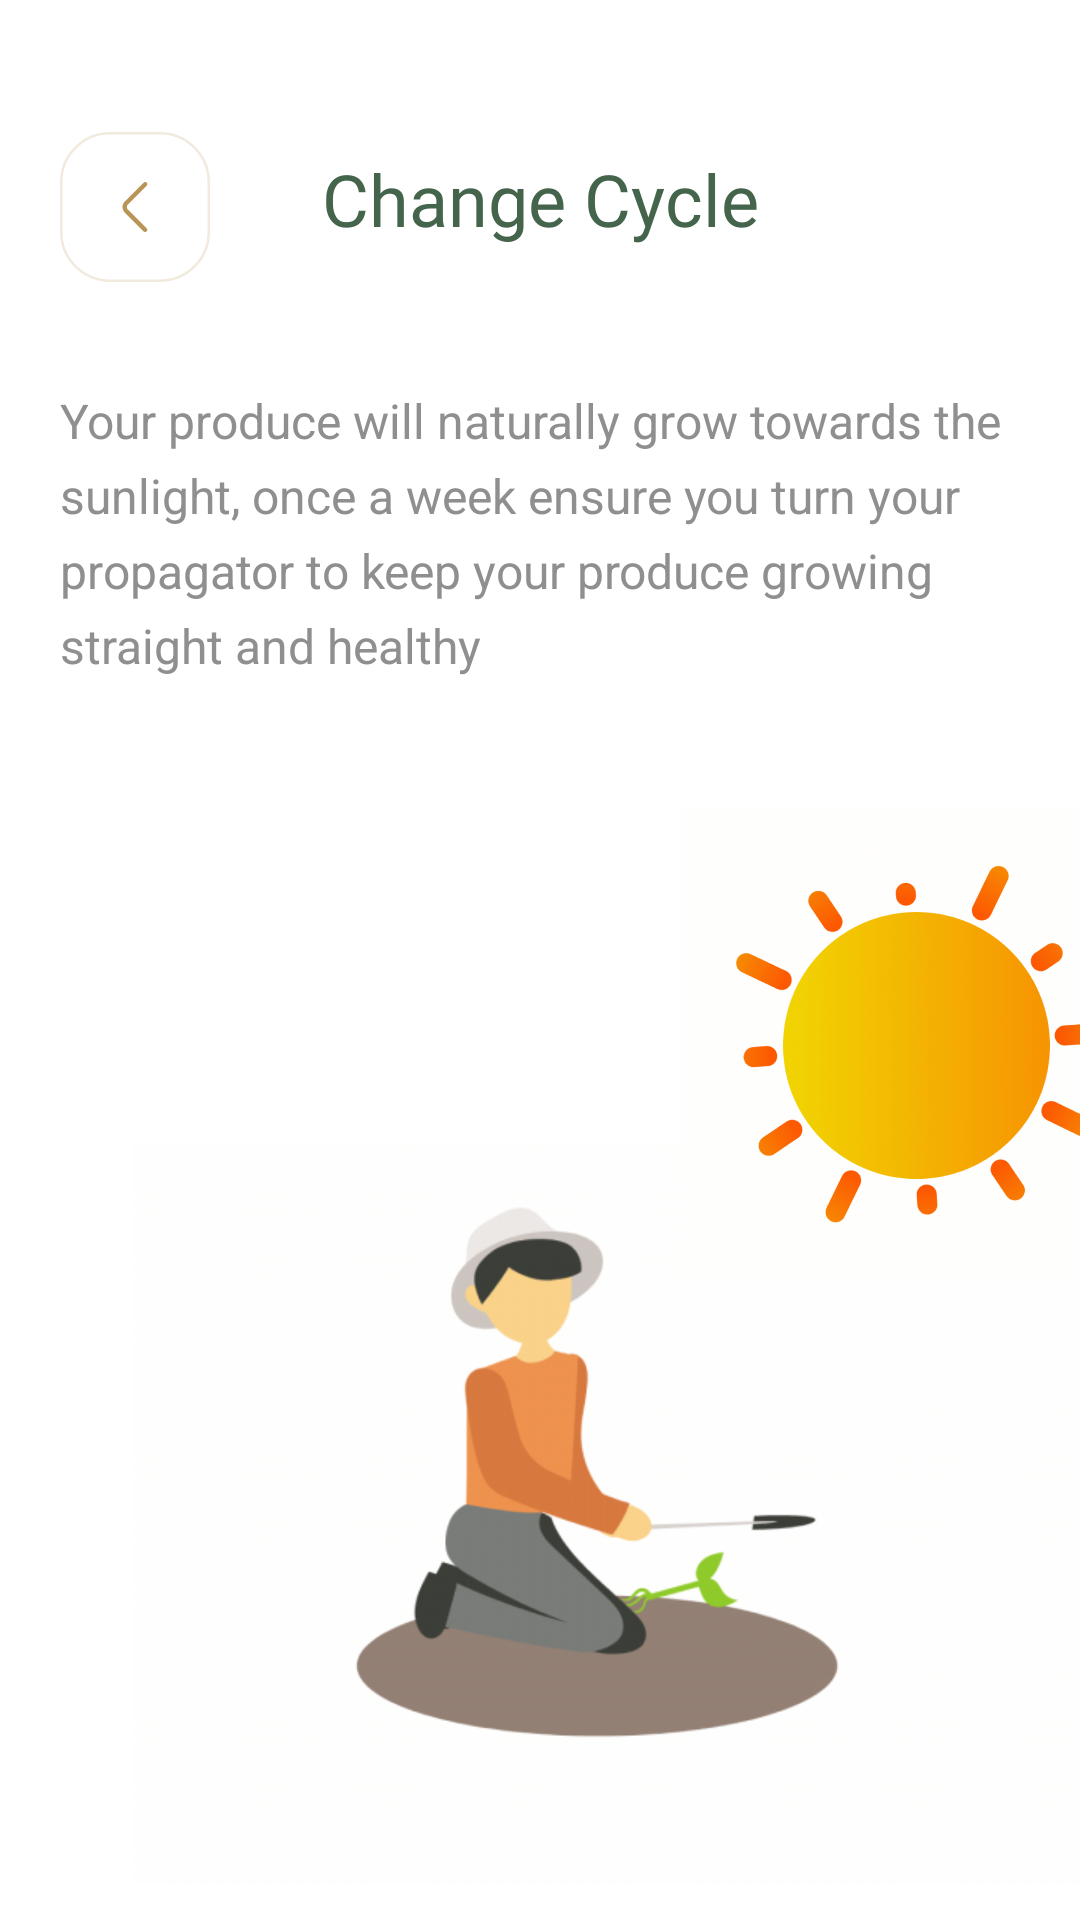

Icon click points for this 1080x1920 phone screenshot, format (x=x, y=y):
back: (x=135, y=207)
